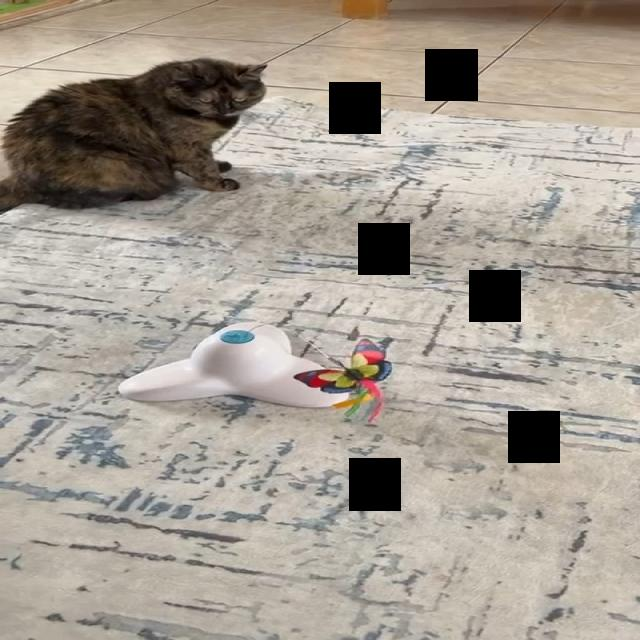authorized: (0, 57, 268, 214)
